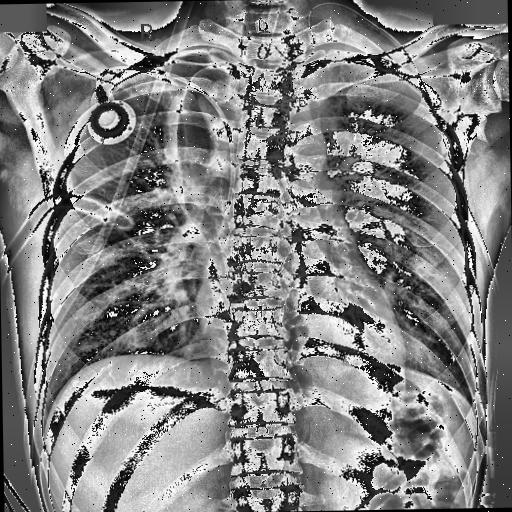9- Other lesion: (176, 56, 328, 404), (128, 48, 248, 276), (160, 59, 242, 265)
